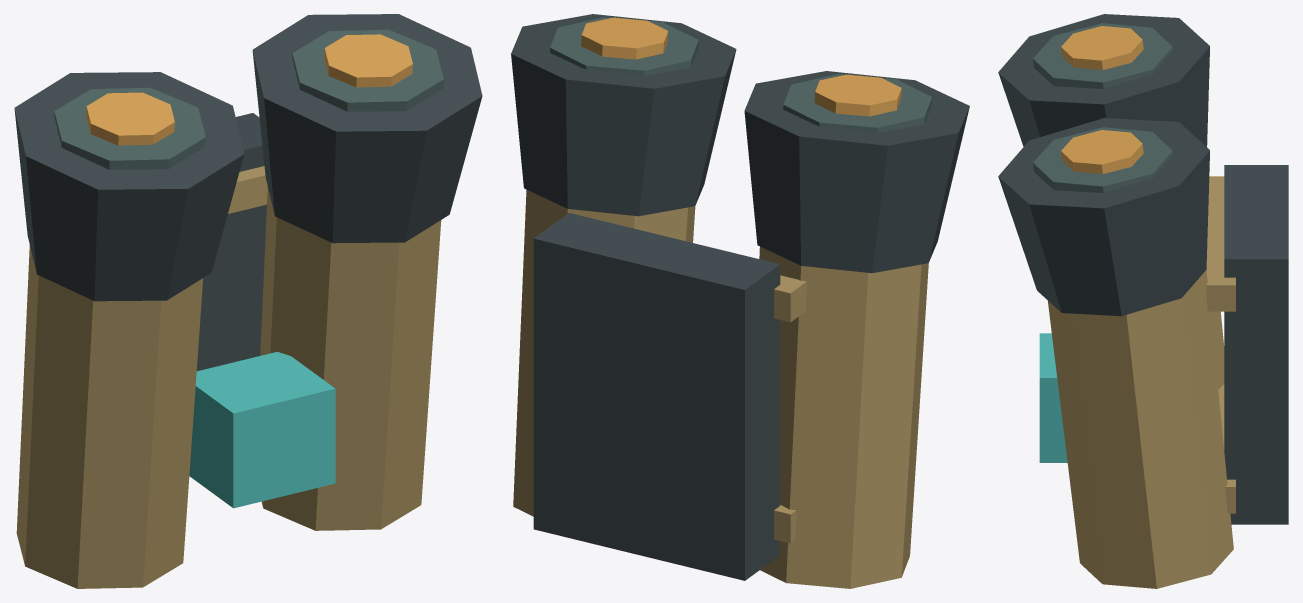
The model's file is Equip_TwinJet.fbx.
The picture shows the model from 3 angles, left to right: view 1: azimuth 30°, elevation 25°; view 2: azimuth 150°, elevation 25°; view 3: azimuth 270°, elevation 25°; orthographic projection. The views are drawn at different scales.
Visible parts, largest first — view 1: Equip_TwinJet; view 2: Equip_TwinJet; view 3: Equip_TwinJet.
Part boxes in pixels (bbox=[...]): Equip_TwinJet: bbox=[14, 14, 482, 588]; Equip_TwinJet: bbox=[511, 14, 969, 588]; Equip_TwinJet: bbox=[998, 14, 1288, 588].
Size of the model in its own units: 0.3925 by 0.395 by 0.2479.
